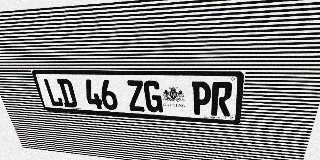4: (82, 79, 103, 109)
6: (98, 80, 119, 110)
D: (57, 79, 78, 108)
G: (143, 80, 163, 113)
L: (43, 78, 64, 107)
P: (192, 81, 212, 115)
R: (211, 82, 233, 116)
Z: (125, 80, 146, 112)
